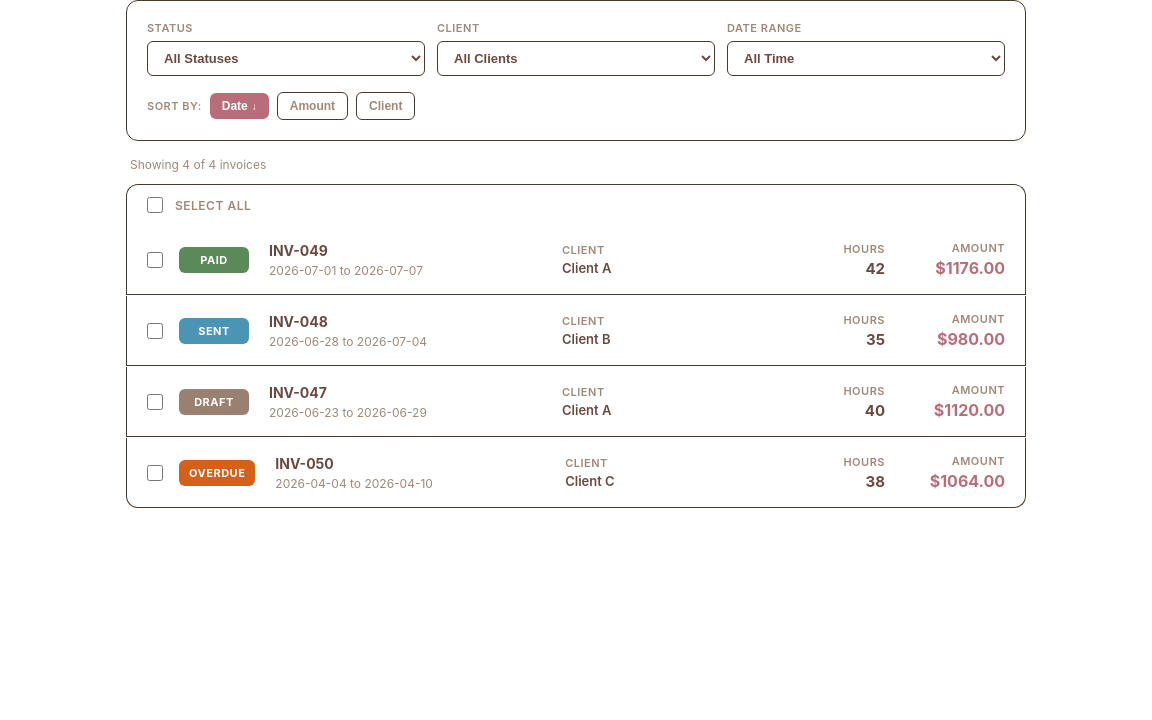
Test case: ListView › deselects all when clicking select-all while all are selected
# Select all
Click the checkbox next to "Select All" at (155, 205), box top-left (147, 197), bottom-right (163, 213)
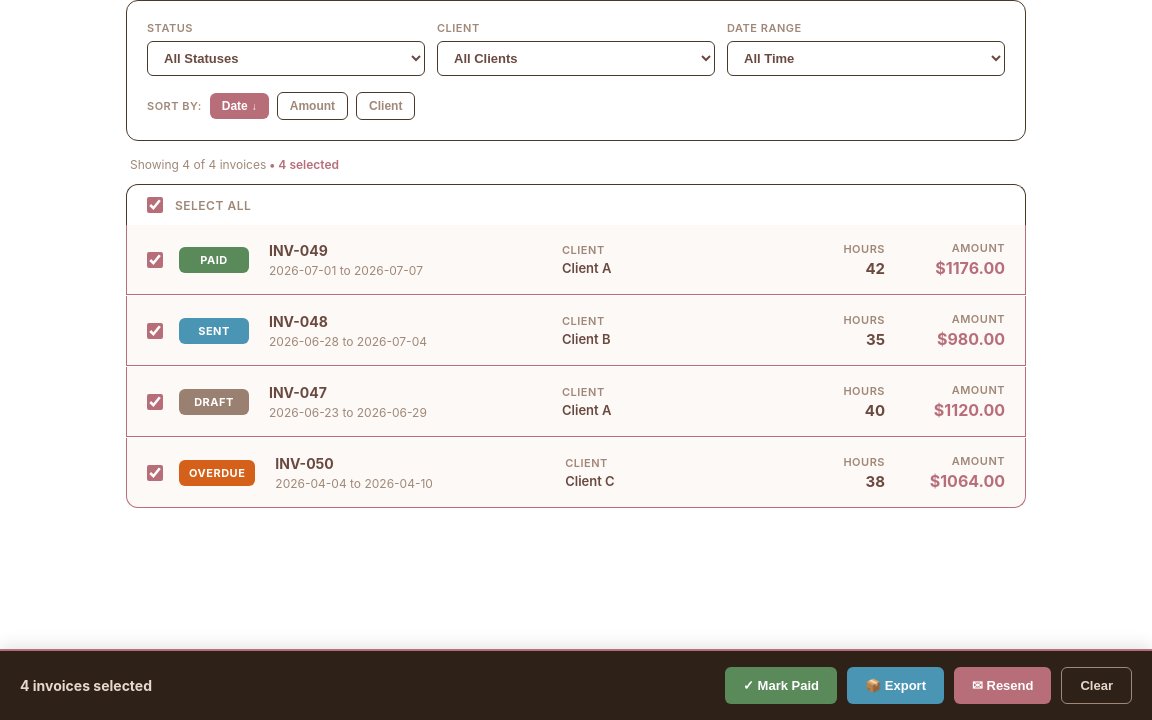
Result: the text "4 invoices selected" is shown at top-left (20, 677), bottom-right (152, 694)
# Deselect all
Click the checkbox next to "Select All" at (155, 205), box top-left (147, 197), bottom-right (163, 213)
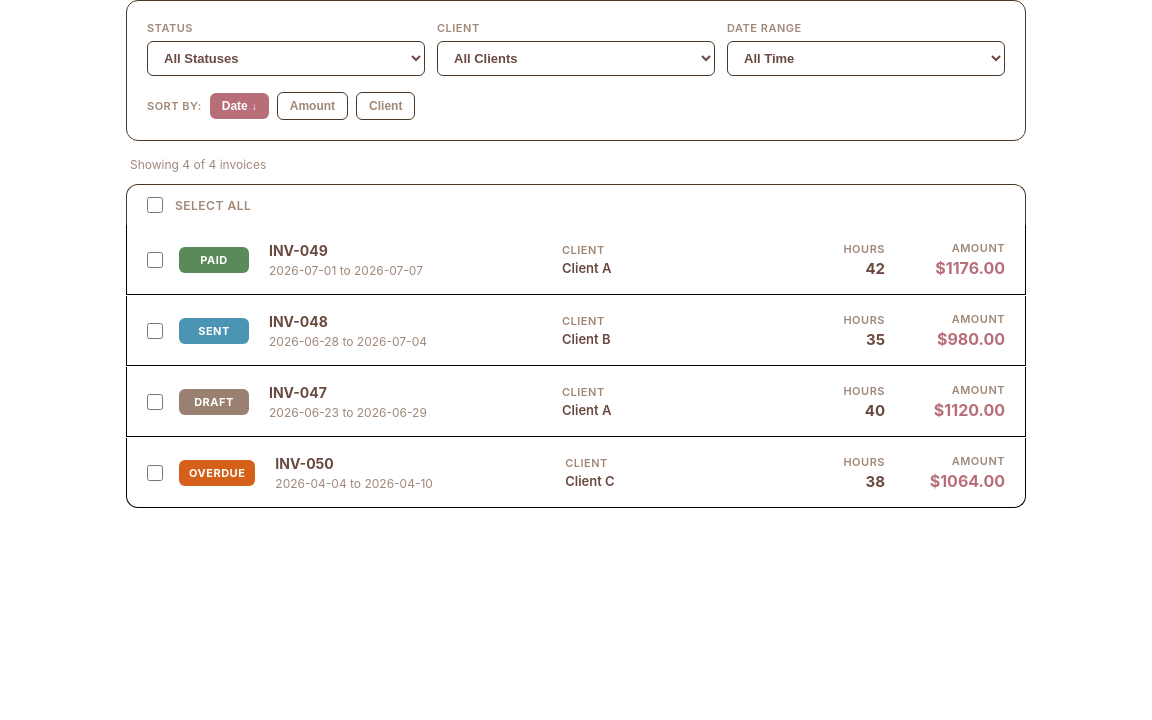
Result: the text "invoices selected" is gone
